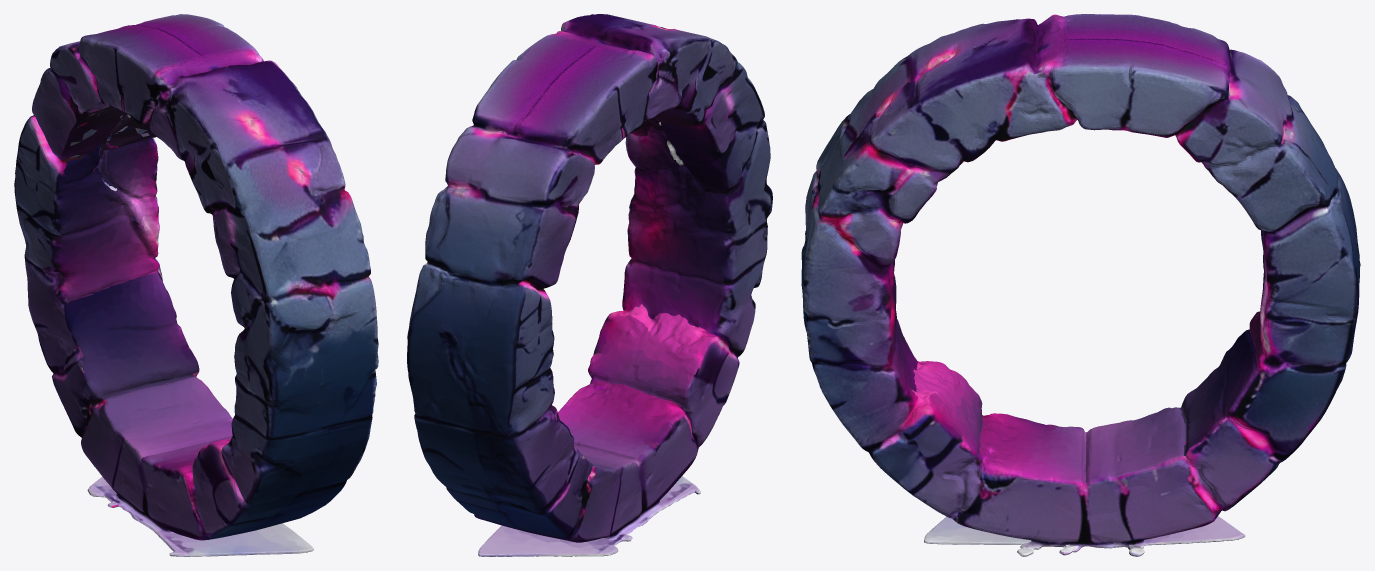
Rendered from ring-fragment-east-generated-2026-04-20T00-01-43-946Z.high.glb.
3 renders of one model, left to right at view 1: azimuth 30°, elevation 25°; view 2: azimuth 150°, elevation 25°; view 3: azimuth 270°, elevation 25°, orthographic. The views are drawn at different scales.
Visible parts, largest first — view 1: temp_mesh.ply; view 2: temp_mesh.ply; view 3: temp_mesh.ply.
Part boxes in pixels (x1,y1,x2,y2): temp_mesh.ply: (14,14,378,556); temp_mesh.ply: (407,14,772,556); temp_mesh.ply: (801,14,1360,556).
Size of the model in its own units: 0.5942 by 1.89 by 1.97.
Materials: 1 (1 with a texture image).
